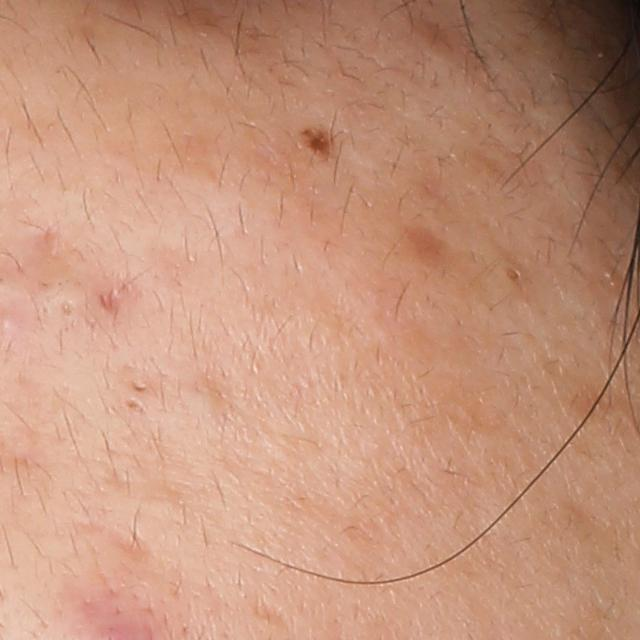atrophic_scar: (114, 524, 156, 566)
comedo: (58, 296, 77, 319)
nevus: (296, 123, 338, 160)
